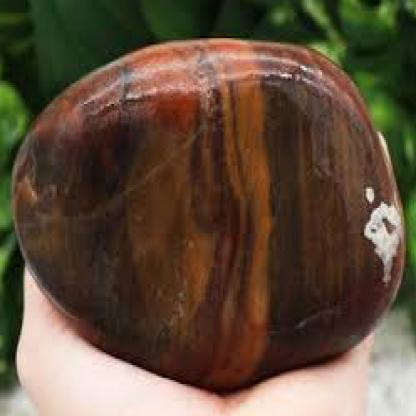Metamorphic_Quartize: (8, 19, 410, 386)
